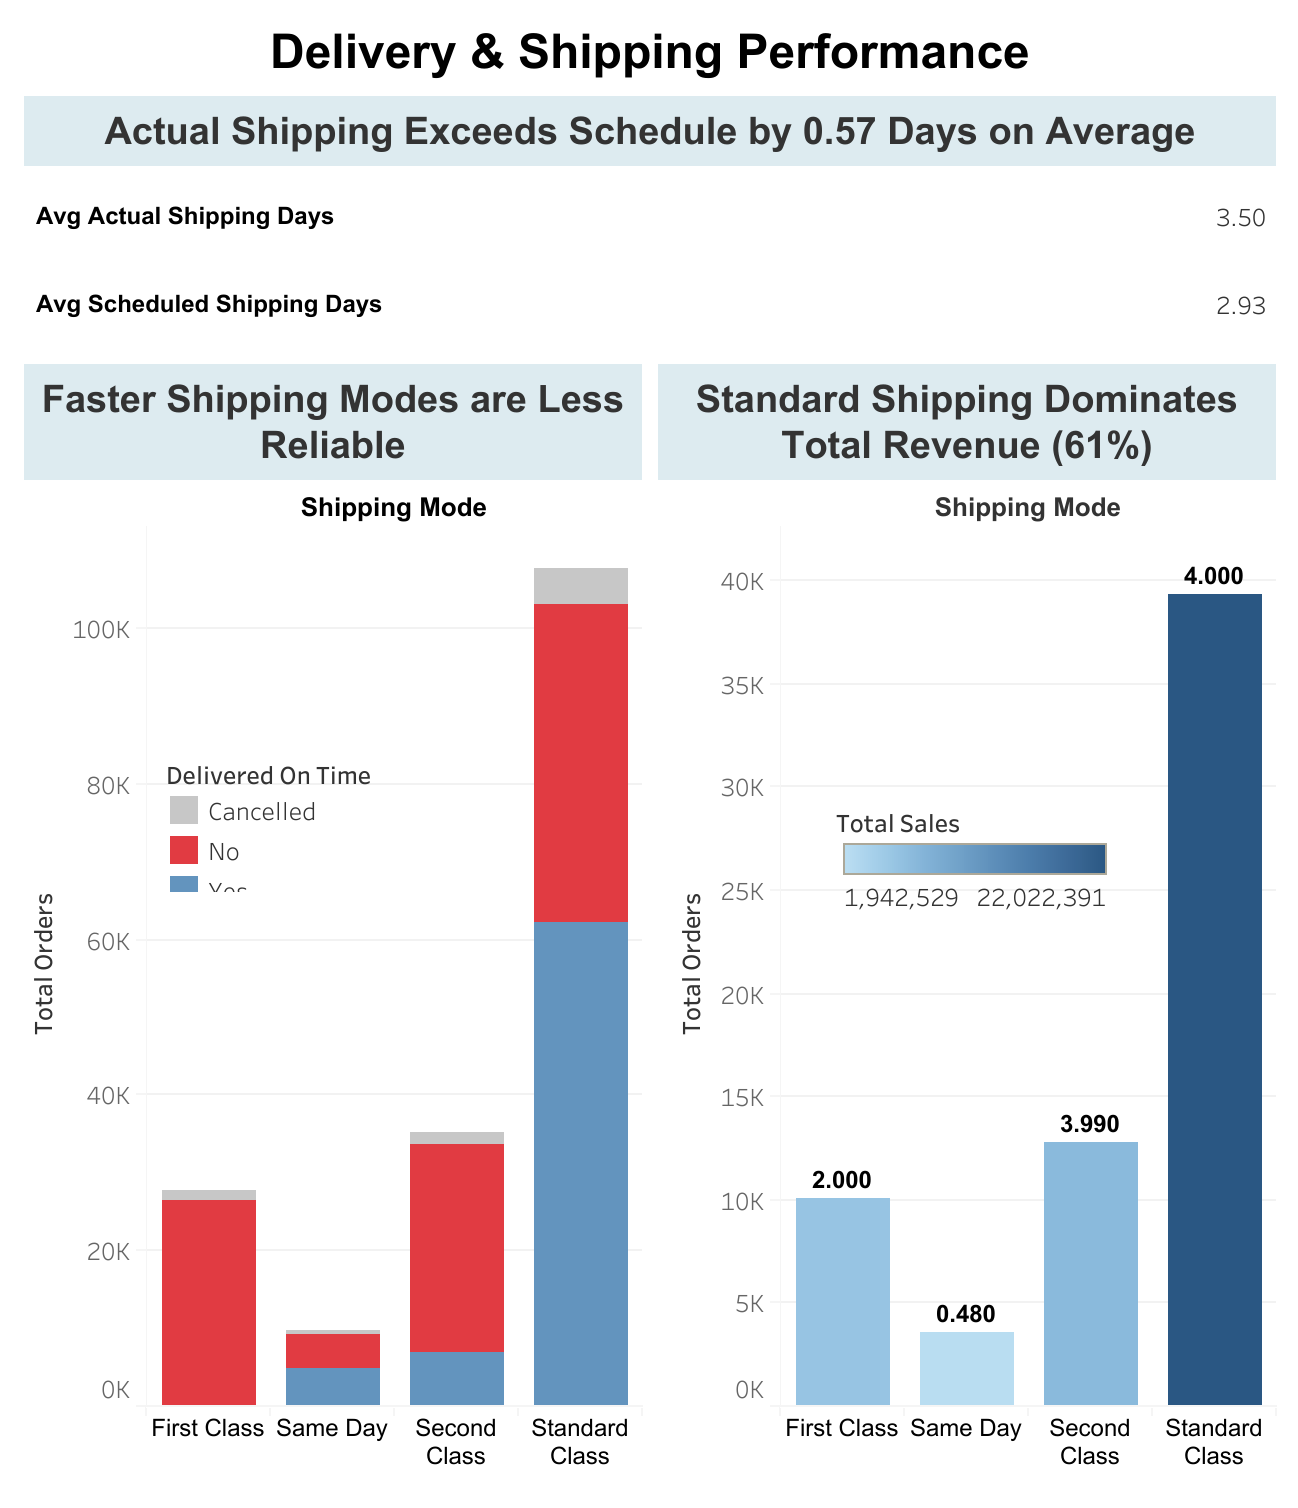

This screenshot's page, from the dashboard's own definition file:
{"tool":"tableau","page":{"name":"Dashboard 2","canvas":[650,860],"ordinal":1},"visuals":[{"type":"title","box":[8,8.2,634,35.9]},{"type":"worksheet","title":"Sheet 10","mark":"Automatic","box":[8,44.1,634,153.6]},{"type":"worksheet","title":"Sheet 7","mark":"Automatic","rows":["total_orders"],"cols":["shipping_mode"],"box":[8,197.7,317,654.1]},{"type":"worksheet","title":"Sheet 6","mark":"Bar","rows":["total_orders"],"cols":["shipping_mode"],"box":[325,197.7,317,654.1]},{"type":"legend","title":"Sheet 7","param":"[federated.196s0fq195fwob15d0fu21qhubft].[none:delivered_on_time:nk]","box":[82,427.9,140,80]},{"type":"legend","title":"Sheet 6","param":"[federated.0vd4qk11f5n4vh1dxdr8q0vohbwh].[sum:total_sales:qk]","box":[418,453.7,140,78.2]}]}

Visuals, with their boxes on the page's 650x860 design canvas (x1, y1, x2, y2). These are canvas units, not pixel positions in the 1298x1508 screenshot, which may show the page scaled, cropped or inside an application window:
title: x1=8, y1=8, x2=642, y2=44
"Sheet 10" worksheet: x1=8, y1=44, x2=642, y2=198
"Sheet 7" worksheet: x1=8, y1=198, x2=325, y2=852
"Sheet 6" worksheet (Bar marks): x1=325, y1=198, x2=642, y2=852
"Sheet 7" legend: x1=82, y1=428, x2=222, y2=508
"Sheet 6" legend: x1=418, y1=454, x2=558, y2=532
